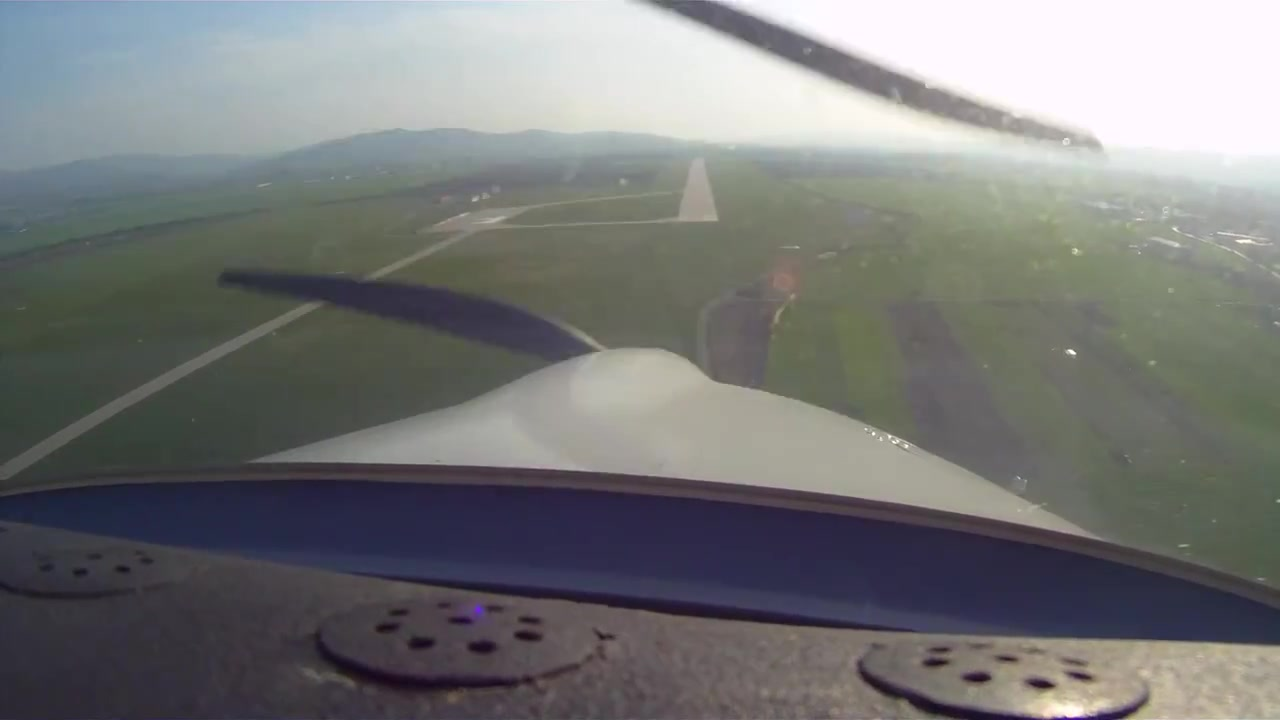runway: (676, 157, 722, 222)
